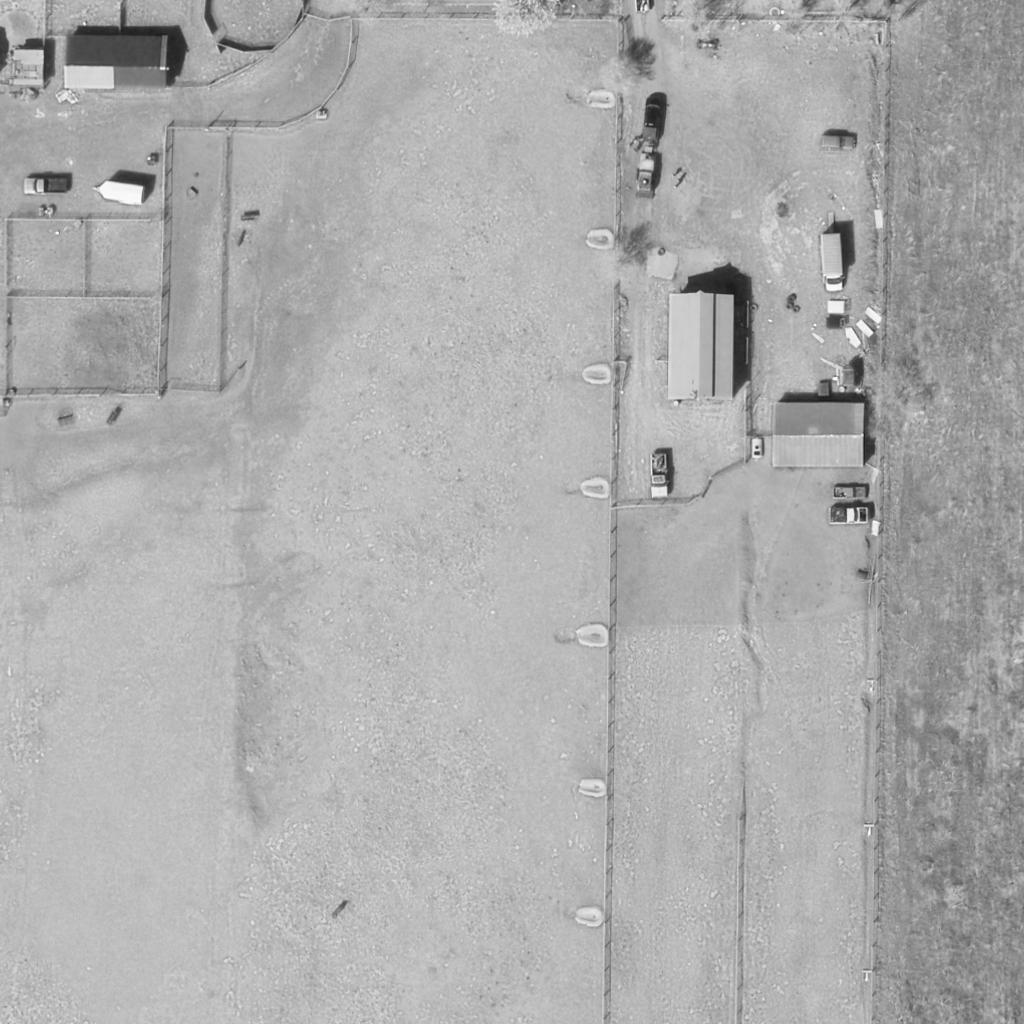vehicle: (94, 177, 148, 209), (821, 235, 847, 293), (650, 452, 670, 502), (642, 103, 662, 143), (24, 178, 68, 196), (828, 508, 870, 526), (820, 135, 860, 149), (832, 486, 870, 500)
